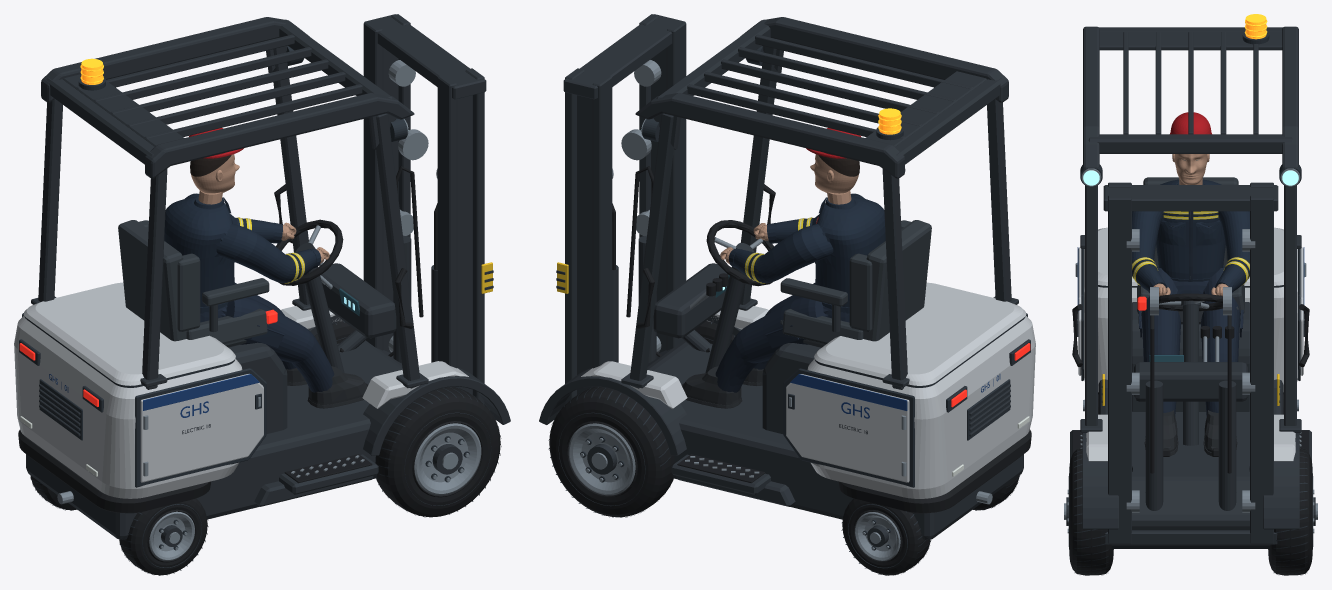
Rendered from SM_Replay_ForkliftBody.fbx.
The picture shows the model from 3 angles, left to right: view 1: azimuth 30°, elevation 25°; view 2: azimuth 150°, elevation 25°; view 3: azimuth 270°, elevation 25°; orthographic projection. The views are drawn at different scales.
Parts seen in each view (by area): view 1: SM_Replay_ForkliftBody; view 2: SM_Replay_ForkliftBody; view 3: SM_Replay_ForkliftBody.
Boxes of the visible parts, x1=… form: SM_Replay_ForkliftBody: x1=14, y1=14, x2=510, y2=575; SM_Replay_ForkliftBody: x1=539, y1=14, x2=1035, y2=575; SM_Replay_ForkliftBody: x1=1064, y1=14, x2=1317, y2=575.
Size of the model in its own units: 216 by 125 by 234.
